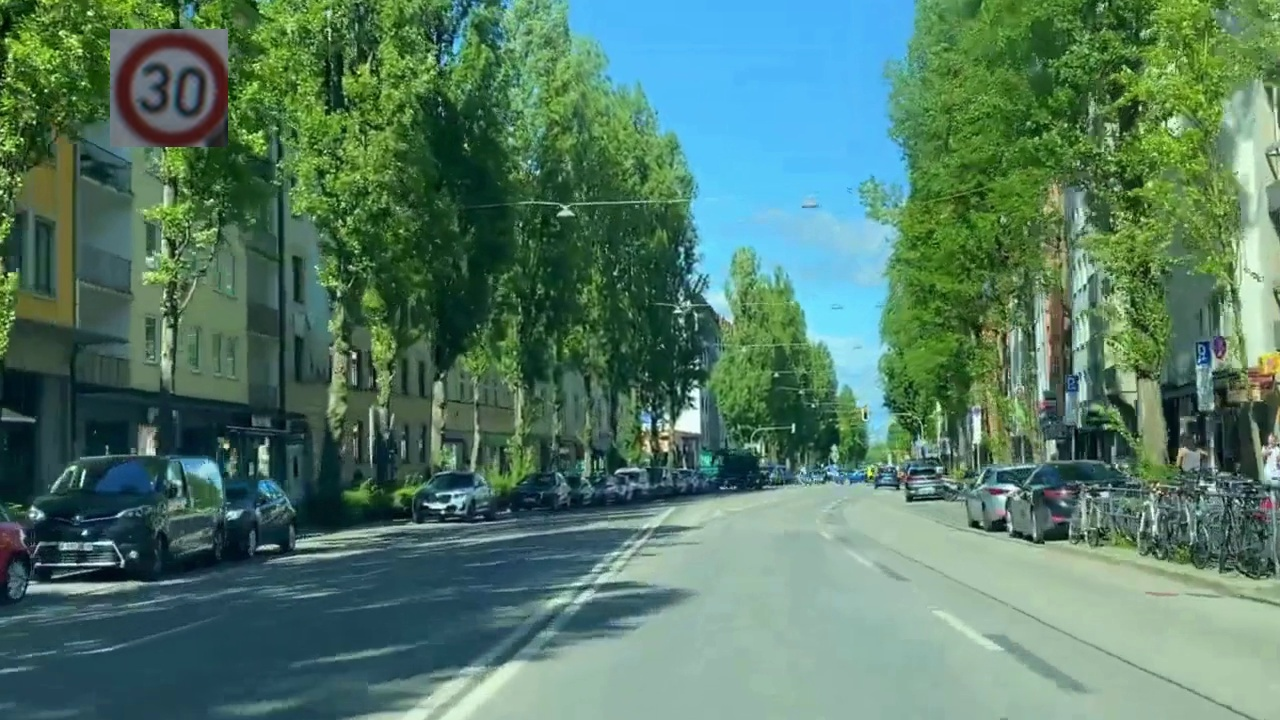Speed 30: (110, 29, 228, 147)
